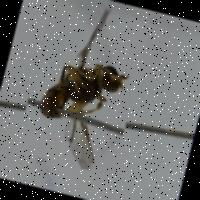Oriental-fruit-fly: (14, 0, 152, 175)
